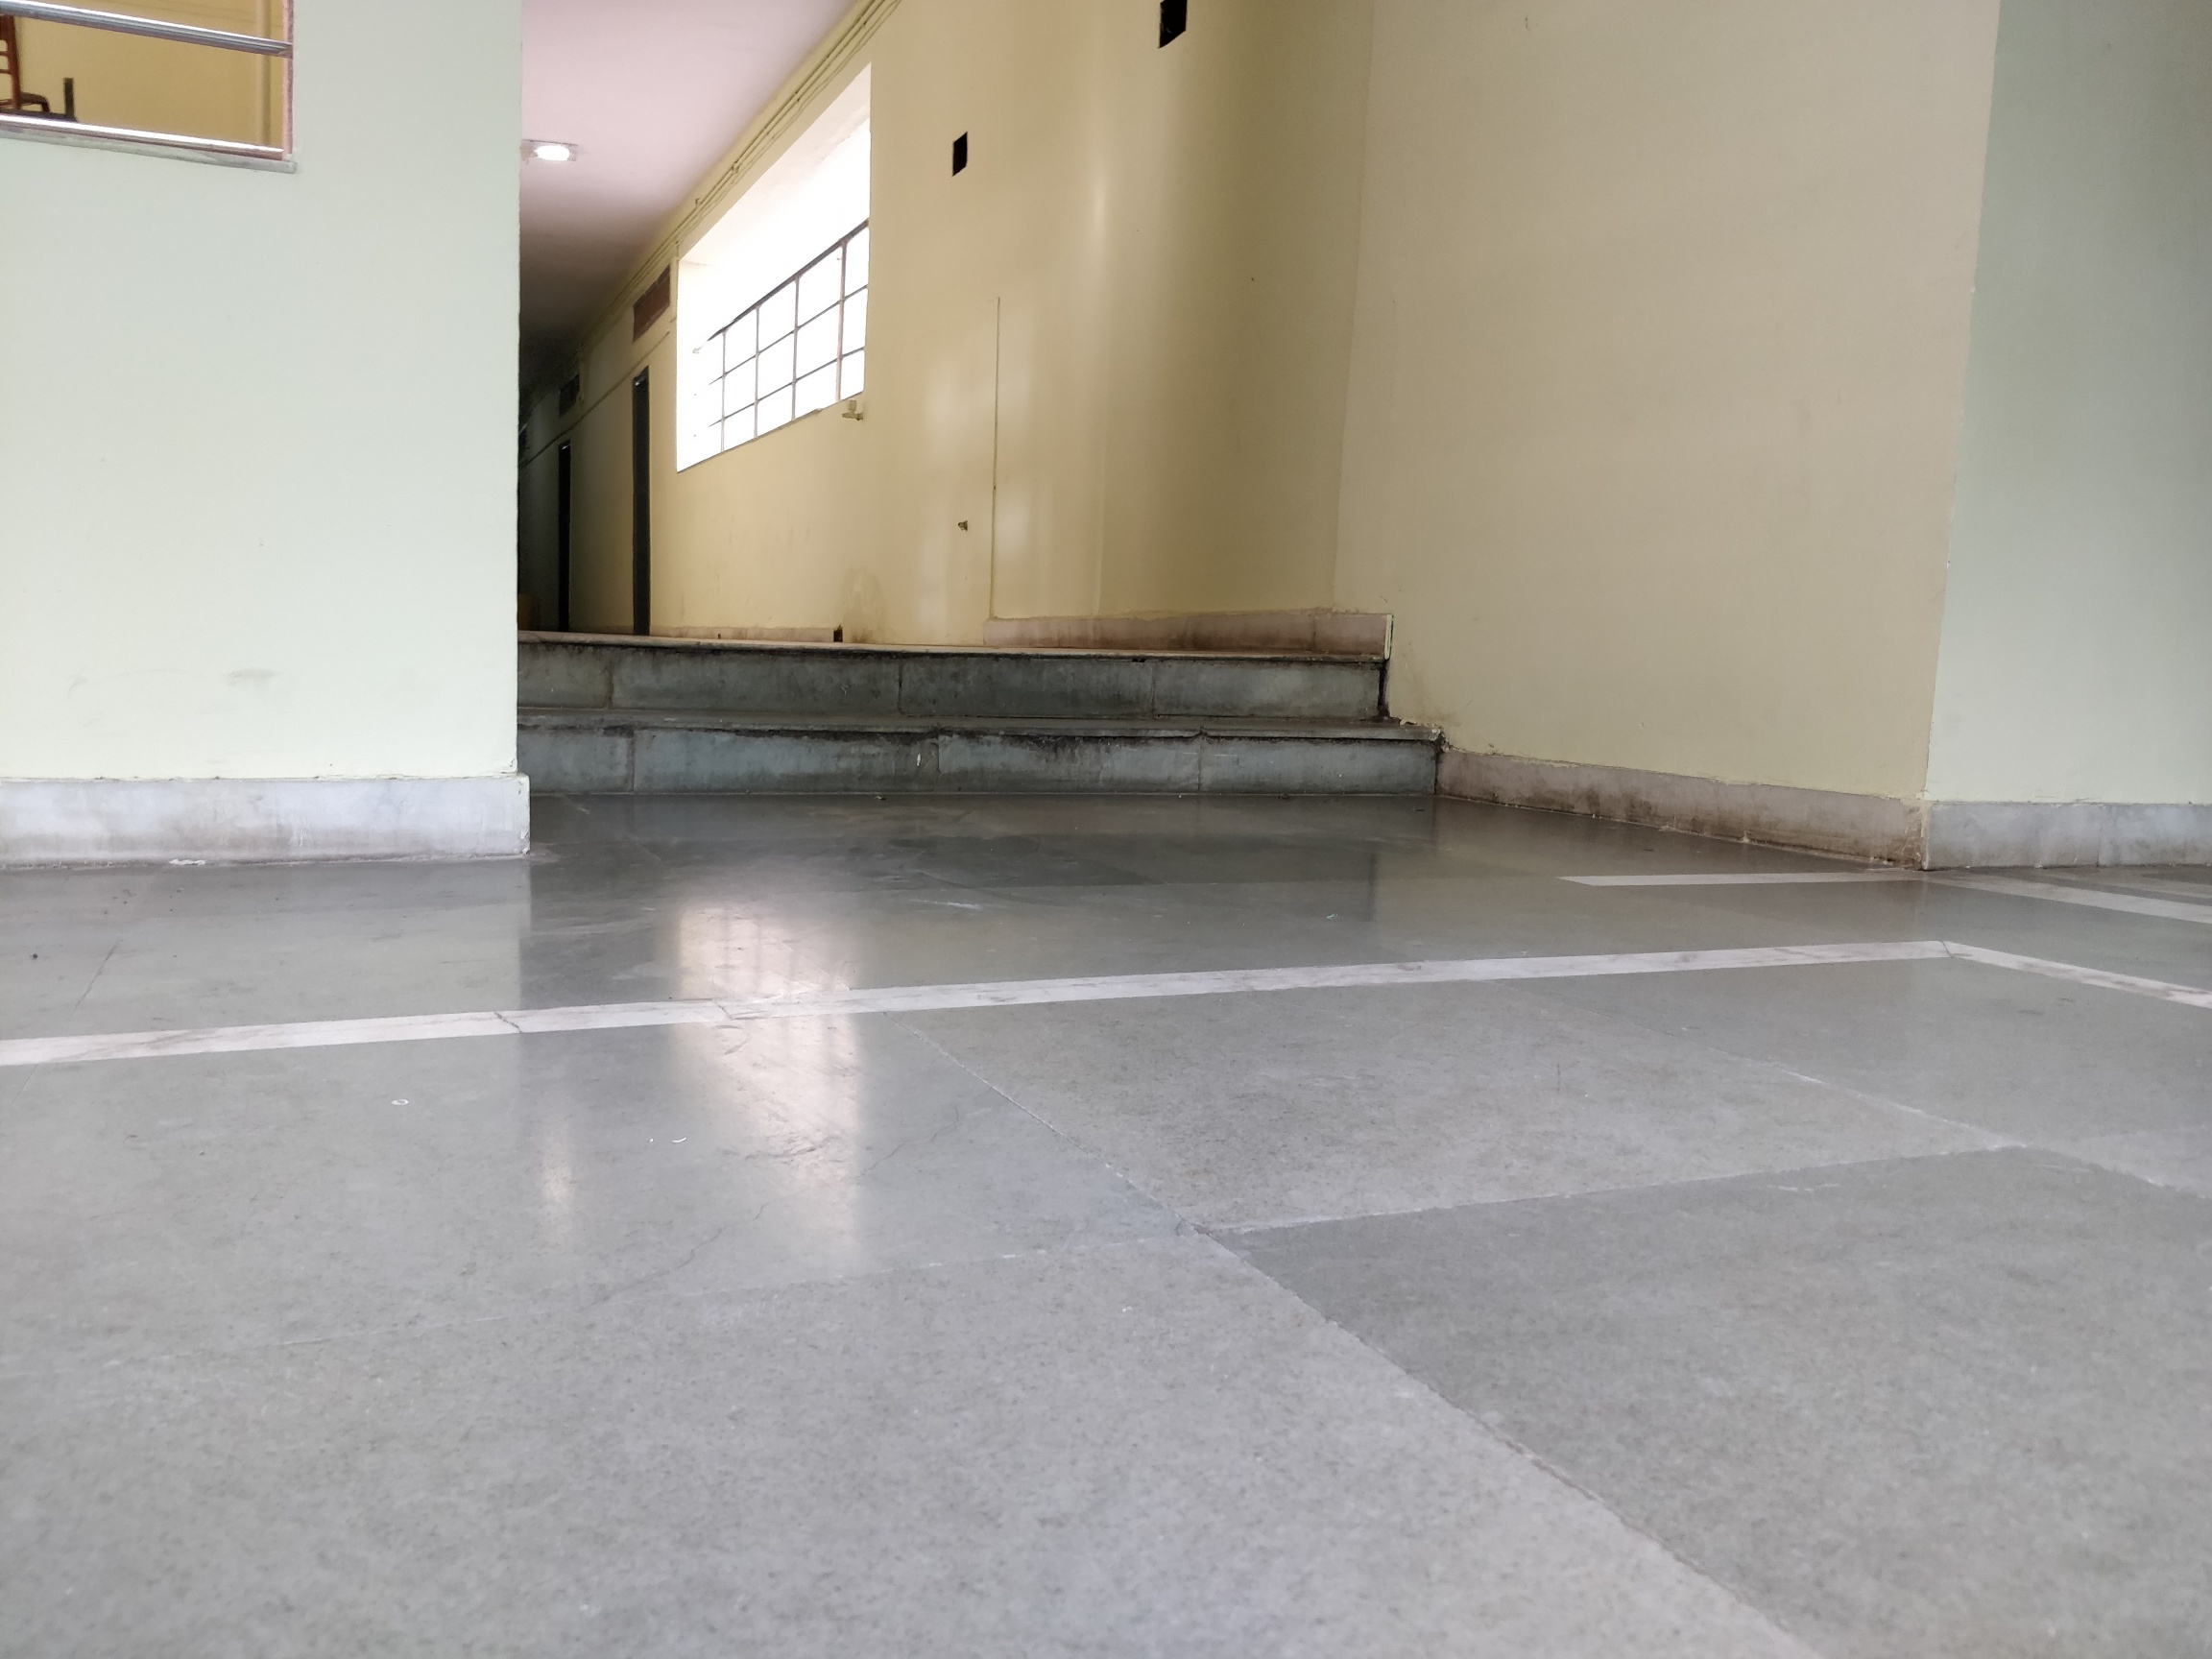stairs_up: (521, 631, 1437, 802)
